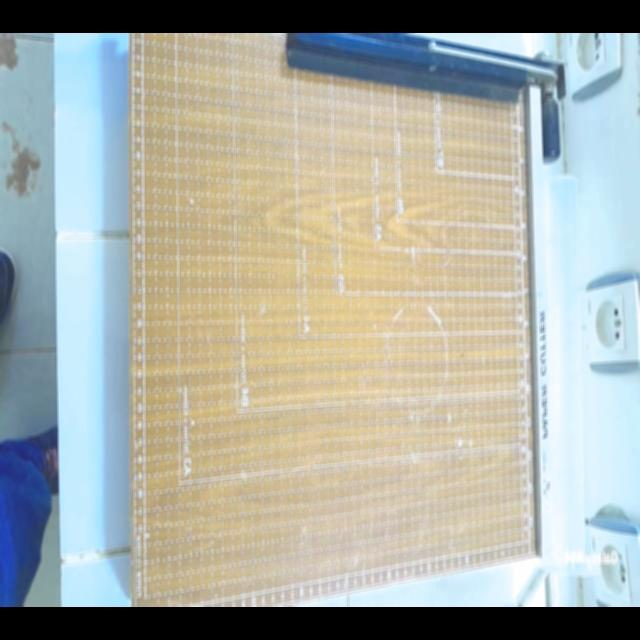TLC Cutter: (88, 33, 578, 588)
